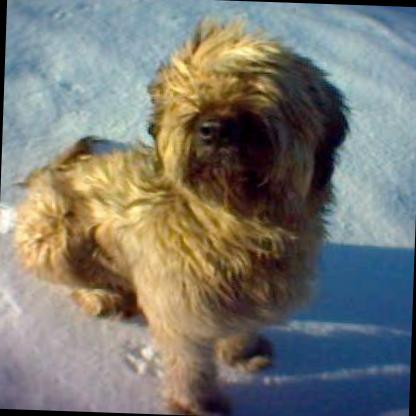briard: (4, 3, 356, 416)
